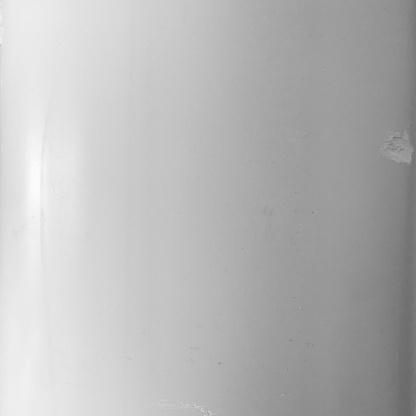sunshang: (378, 125, 416, 172)
